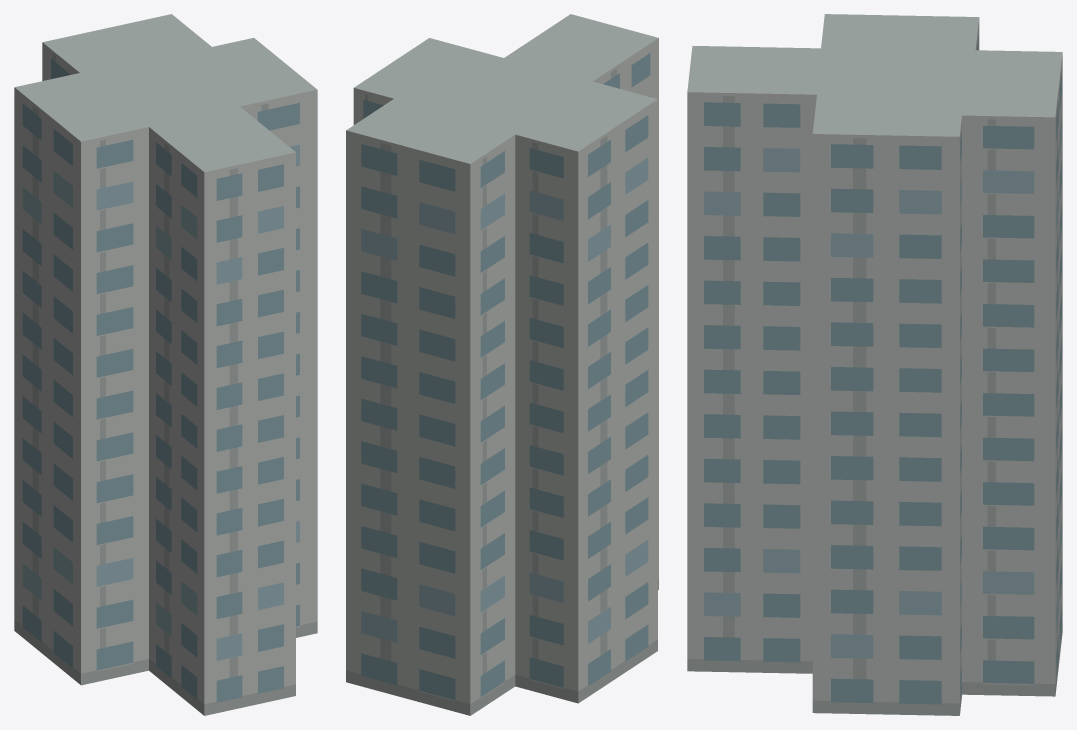
The model's file is residential-f5d325d2-96d3-4051-adcc-20496dfcbb3f.glb.
The picture shows the model from 3 angles, left to right: view 1: azimuth 30°, elevation 25°; view 2: azimuth 150°, elevation 25°; view 3: azimuth 270°, elevation 25°; orthographic projection. The views are drawn at different scales.
Visible parts, largest first — view 1: residential-f5d325d2-96d3-4051-adcc-20496dfcbb3f.tmp; view 2: residential-f5d325d2-96d3-4051-adcc-20496dfcbb3f.tmp; view 3: residential-f5d325d2-96d3-4051-adcc-20496dfcbb3f.tmp.
Part boxes in pixels (bbox=[...]): residential-f5d325d2-96d3-4051-adcc-20496dfcbb3f.tmp: bbox=[14, 14, 317, 715]; residential-f5d325d2-96d3-4051-adcc-20496dfcbb3f.tmp: bbox=[346, 14, 658, 715]; residential-f5d325d2-96d3-4051-adcc-20496dfcbb3f.tmp: bbox=[687, 14, 1062, 715].
Bounding box in the file's own units: 19.56 × 43 × 25.27.
